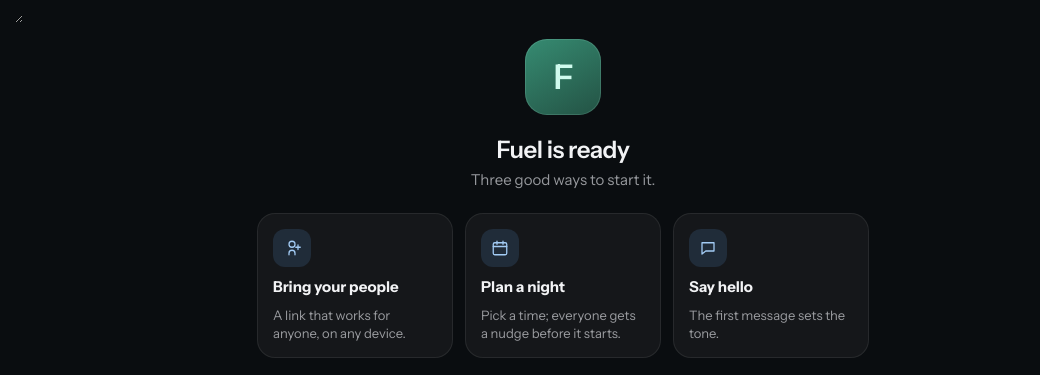
Plan a night › grows out of the action card (195ms, from half opacity) while the welcome fades out (90ms)
What coordinates should you click on to do the following:
click the button that starts with "Plan a night"
I would click on:
 (563, 286)
Its box is [465, 213, 661, 358].
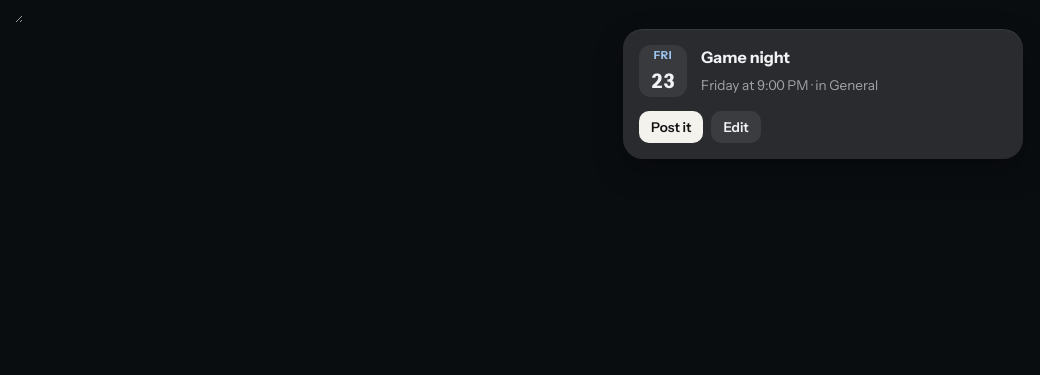
Expected: the element with test id "ix-welcome" is gone
